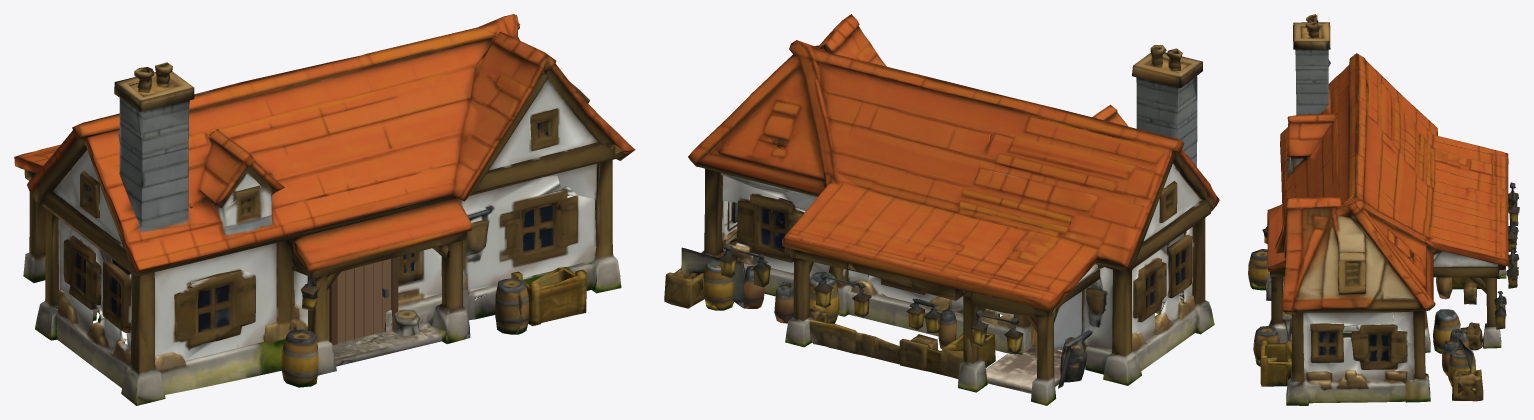
Rendered from inn.glb.
3 views of the same model, side by side, from view 1: azimuth 30°, elevation 25°; view 2: azimuth 150°, elevation 25°; view 3: azimuth 270°, elevation 25° (orthographic). The views are drawn at different scales.
Visible parts, largest first — view 1: inn; view 2: inn; view 3: inn.
Boxes of the visible parts, x1,y1,x2,y2 form: inn: (14, 14, 635, 405); inn: (664, 14, 1219, 405); inn: (1248, 14, 1519, 405).
Bounding box in the file's own units: 12 × 7.2 × 7.76.
4 materials, 1 textured.
